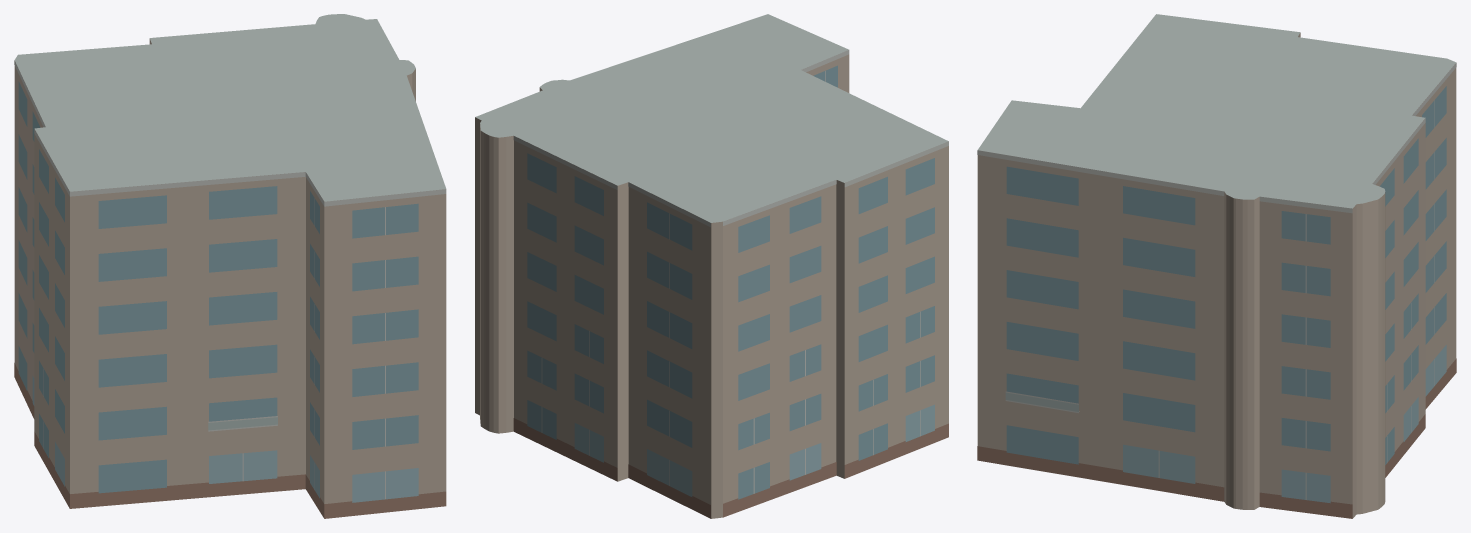
The model's file is survey-upis-32512083.glb.
The picture shows the model from 3 angles, left to right: view 1: azimuth 30°, elevation 25°; view 2: azimuth 150°, elevation 25°; view 3: azimuth 270°, elevation 25°; orthographic projection. The views are drawn at different scales.
Parts seen in each view (by area): view 1: survey-upis-32512083.tmp; view 2: survey-upis-32512083.tmp; view 3: survey-upis-32512083.tmp.
Boxes of the visible parts, x1,y1,x2,y2 form: survey-upis-32512083.tmp: (14, 14, 446, 518); survey-upis-32512083.tmp: (475, 14, 948, 518); survey-upis-32512083.tmp: (977, 14, 1456, 518).
Size of the model in its own units: 21.39 by 15.9 by 22.25.
